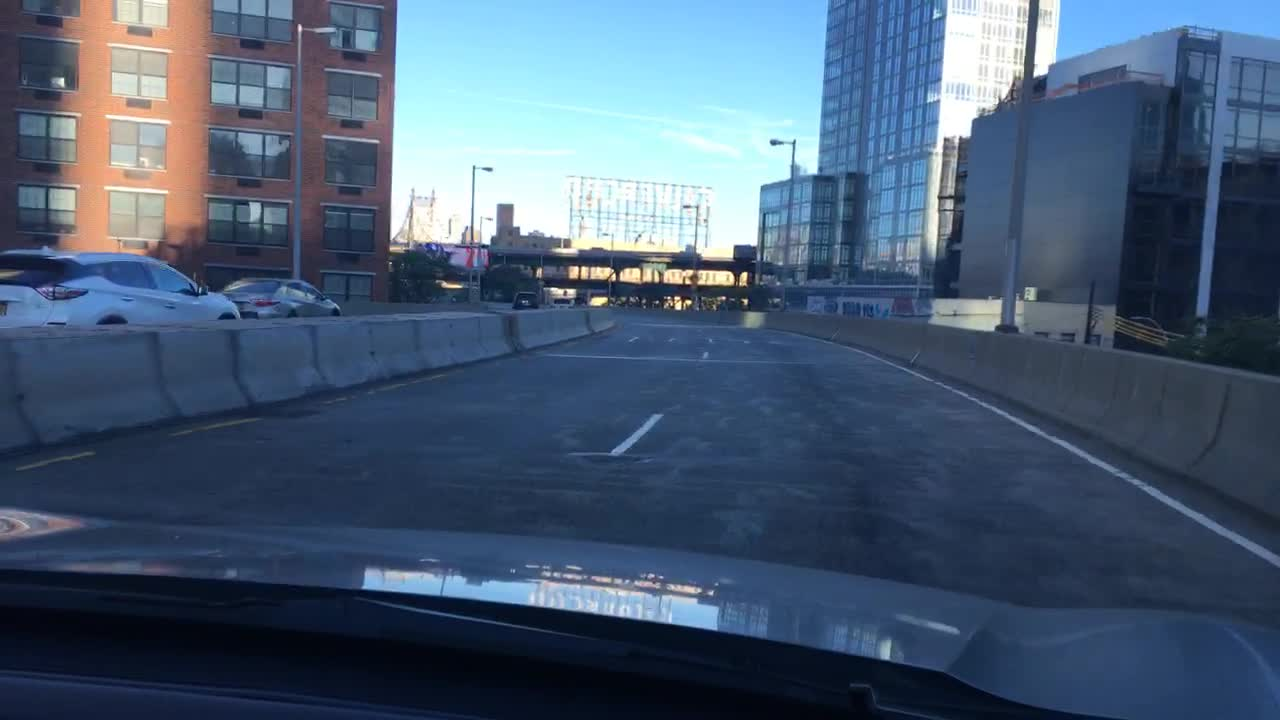car: (0, 250, 241, 322), (220, 277, 343, 319), (513, 292, 535, 309), (559, 297, 575, 307), (547, 294, 559, 306)
